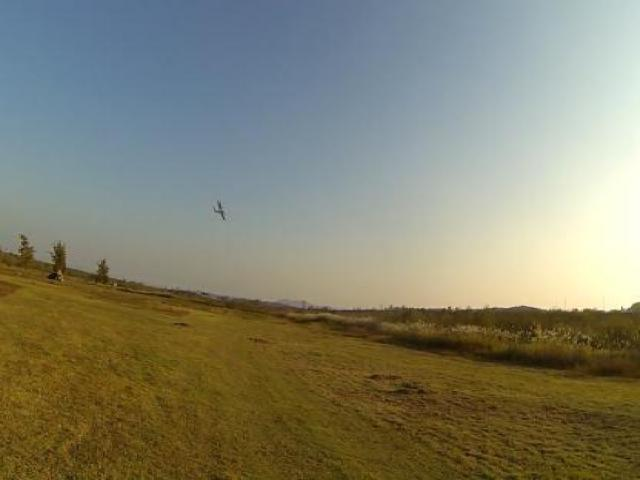uav: (207, 190, 236, 228)
